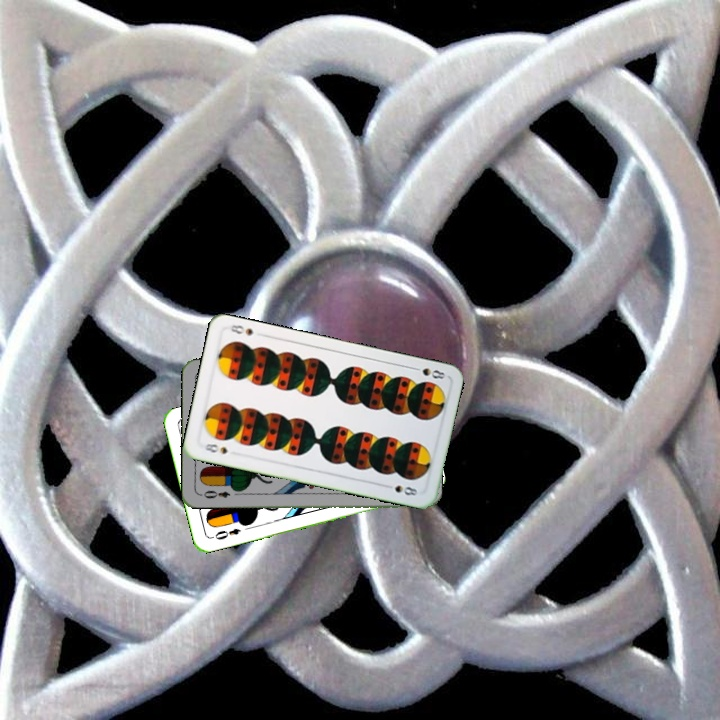EO: (207, 524, 244, 542), (197, 486, 232, 501)
S8: (408, 363, 449, 382), (200, 439, 230, 457)
